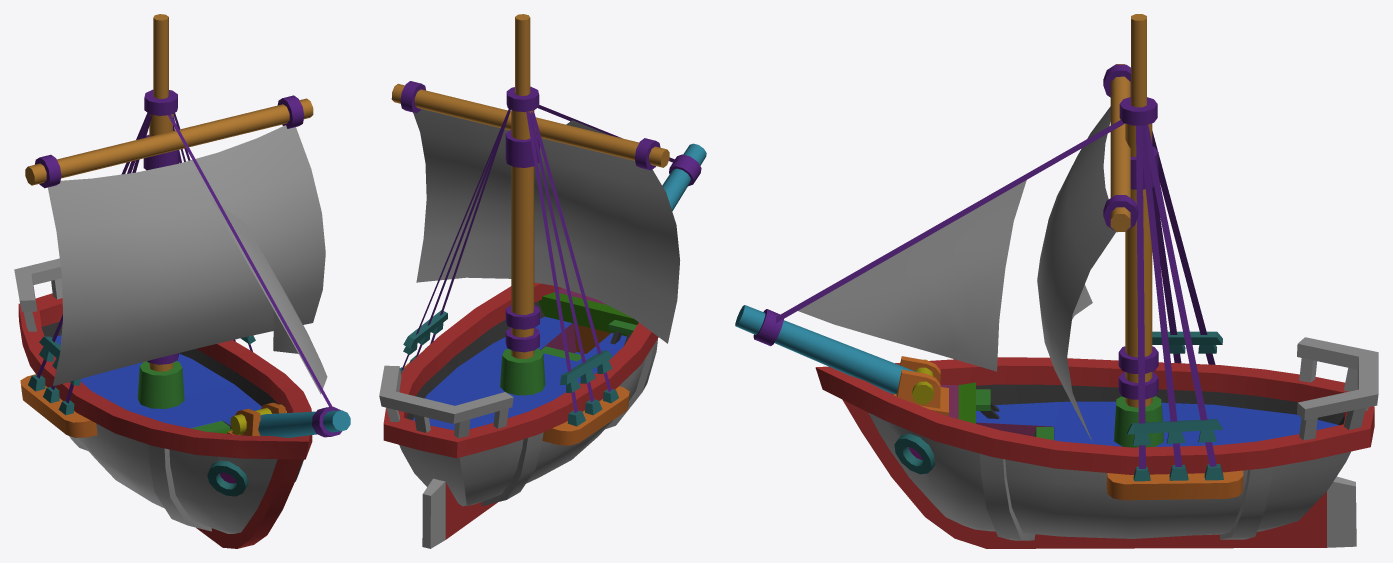
The model's file is Tartana_mm.fbx.
3 renders of one model, left to right at view 1: azimuth 30°, elevation 25°; view 2: azimuth 150°, elevation 25°; view 3: azimuth 270°, elevation 25°, orthographic. The views are drawn at different scales.
Visible parts, largest first — view 1: Sails, Tartana, Upgrade_02, Upgrade_01; view 2: Tartana, Sails, Upgrade_01, Upgrade_02, Rudder; view 3: Tartana, Sails, Upgrade_01, Upgrade_02, Rudder.
Part boxes in pixels (<box>): Sails: <box>48,125,327,394</box>; Tartana: <box>18,14,350,548</box>; Upgrade_02: <box>69,436,211,531</box>; Upgrade_01: <box>14,258,62,331</box>; Tartana: <box>383,14,706,539</box>; Sails: <box>413,108,680,343</box>; Upgrade_01: <box>379,365,513,438</box>; Upgrade_02: <box>481,339,657,506</box>; Rudder: <box>422,478,445,548</box>; Tartana: <box>735,14,1374,548</box>; Sails: <box>798,106,1115,440</box>; Upgrade_01: <box>1297,337,1378,440</box>; Upgrade_02: <box>979,453,1273,540</box>; Rudder: <box>1327,476,1356,547</box>.
Size of the model in its own units: 370 by 606 by 671.
